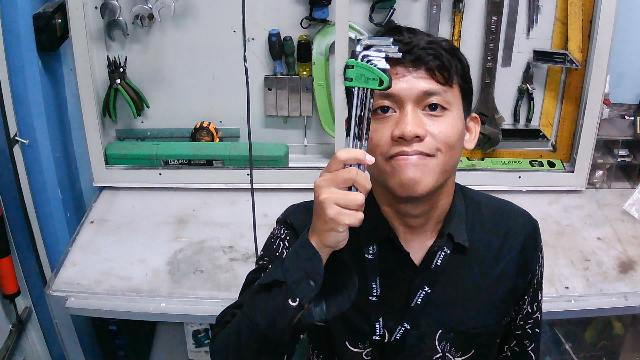kunci_l: (342, 32, 403, 218)
